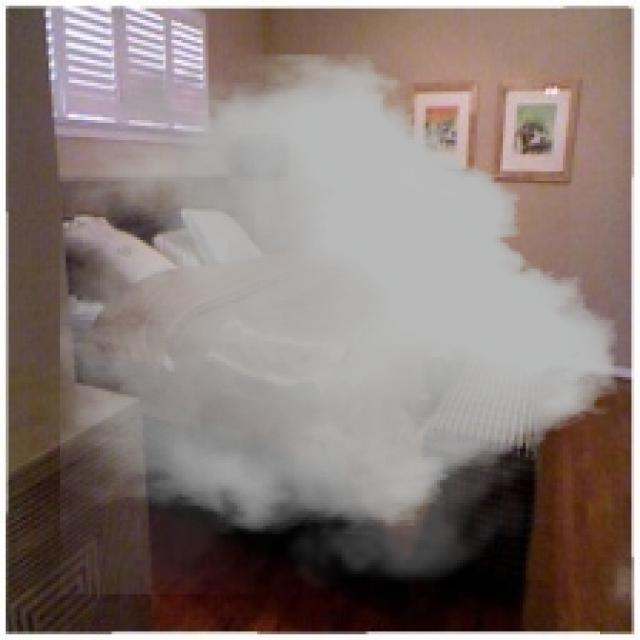smoke: (60, 46, 617, 594)
